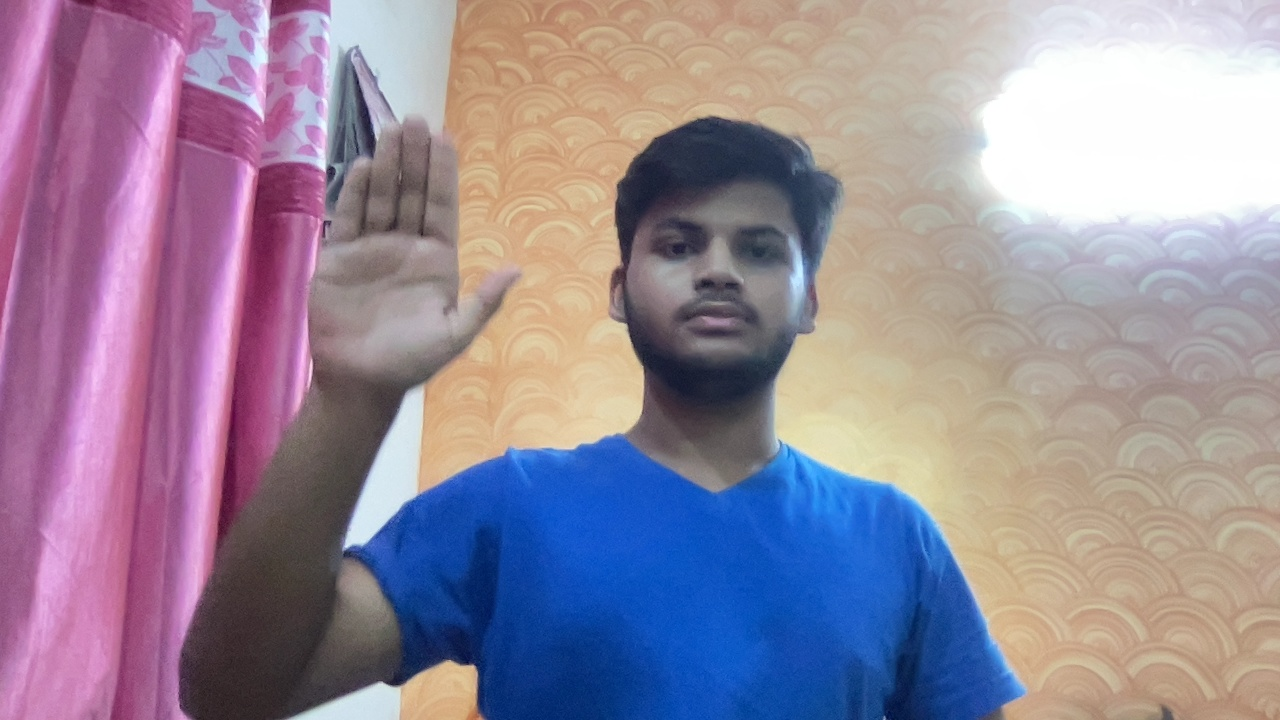hello: (294, 109, 538, 416)
